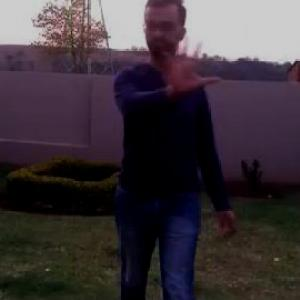follow_hand: (153, 29, 224, 97)
